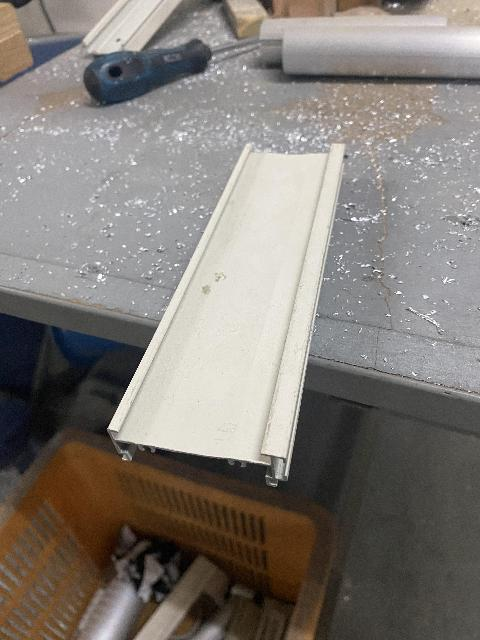Metal: (97, 117, 363, 498), (254, 6, 480, 79), (73, 0, 192, 41), (208, 13, 267, 71)
Plastik: (84, 38, 210, 108)
